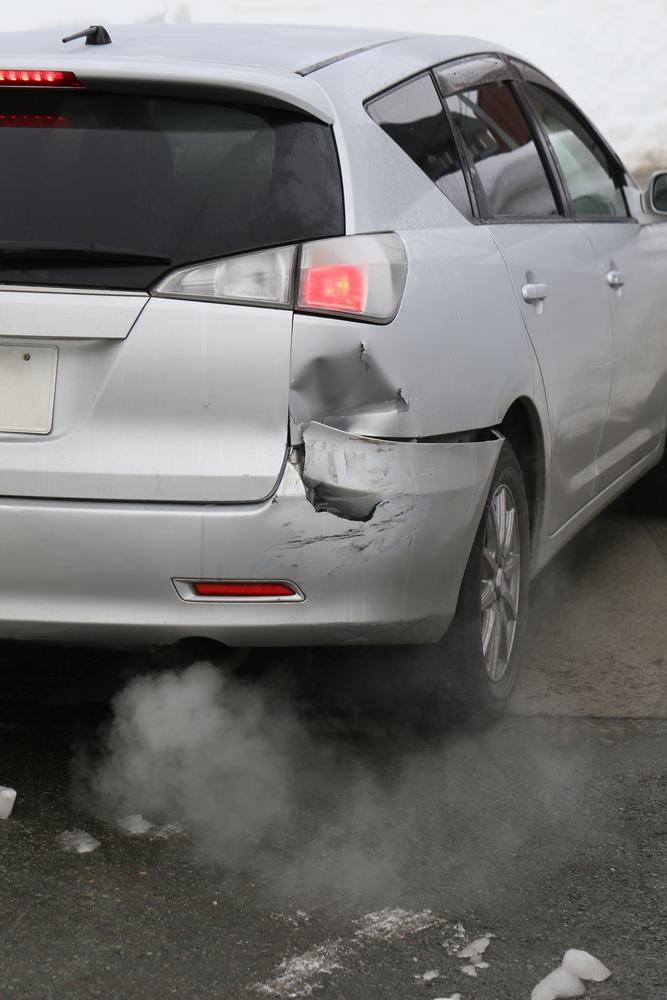crack: (300, 462, 383, 529)
dent: (290, 349, 405, 443)
scratch: (266, 443, 427, 584)
